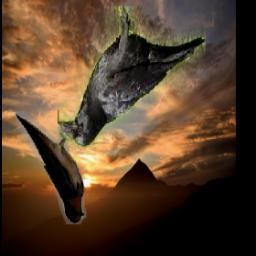Crow: (58, 6, 206, 148)
Swallow: (16, 112, 87, 226)
